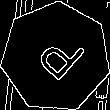P_SW: (26, 26, 86, 88)
